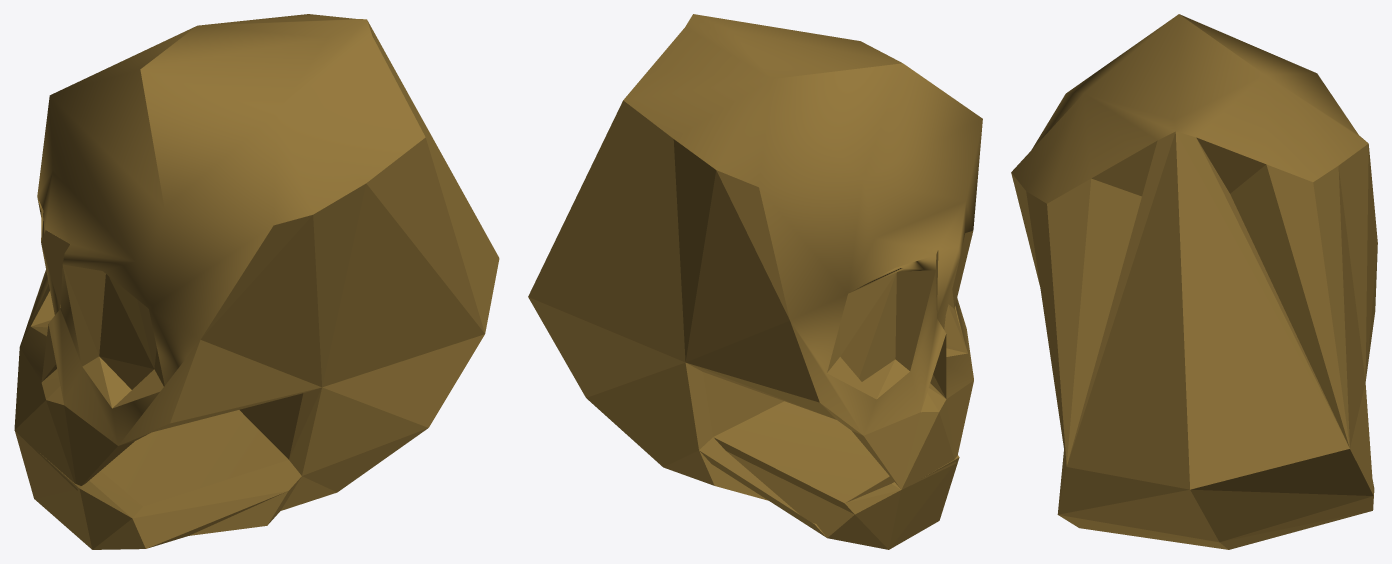
File: skull.FBX
3 views of the same model, side by side, from view 1: azimuth 30°, elevation 25°; view 2: azimuth 150°, elevation 25°; view 3: azimuth 270°, elevation 25° (orthographic). The views are drawn at different scales.
Parts seen in each view (by area): view 1: Box003; view 2: Box003; view 3: Box003.
Part boxes in pixels (<box>): Box003: <box>14,14,499,549</box>; Box003: <box>528,14,982,549</box>; Box003: <box>1011,14,1377,549</box>.
Size of the model in its own units: 41 by 29.01 by 42.75.
